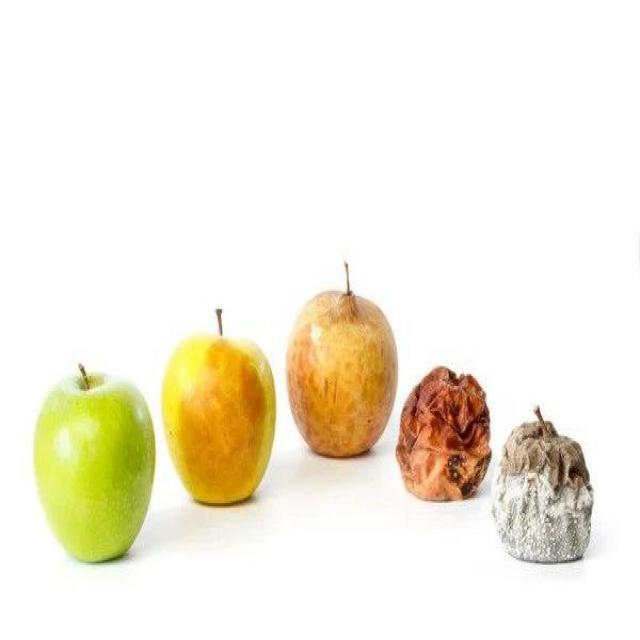Fresh Apple: (33, 375, 155, 553), (170, 342, 275, 498), (293, 297, 390, 448)
Rotten: (404, 372, 494, 512), (510, 438, 588, 565)
